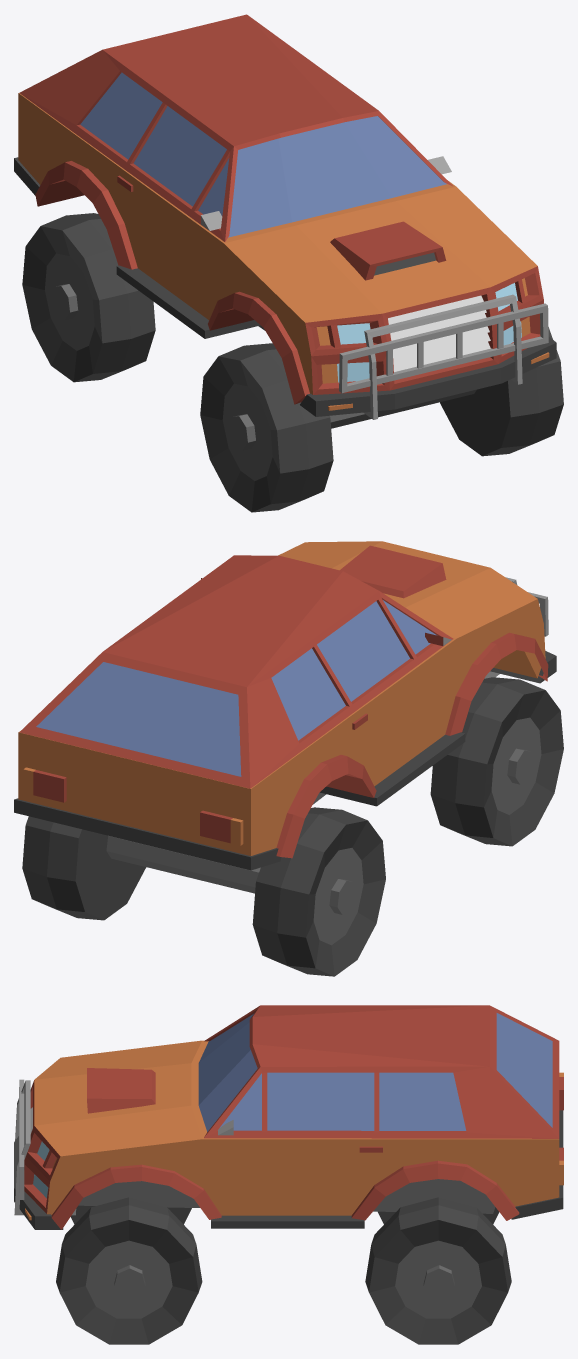
The model's file is transport_jeep_011.fbx.
The picture shows the model from 3 angles, top to bottom: view 1: azimuth 30°, elevation 25°; view 2: azimuth 150°, elevation 25°; view 3: azimuth 270°, elevation 25°; orthographic projection. The views are drawn at different scales.
Visible parts, largest first — view 1: transport_jeep_011; view 2: transport_jeep_011; view 3: transport_jeep_011.
Part boxes in pixels (box(x1,y1,x2,y2)): transport_jeep_011: box(14, 14, 563, 512); transport_jeep_011: box(14, 541, 563, 976); transport_jeep_011: box(14, 1005, 563, 1344).
Size of the model in its own units: 192 by 190 by 368.
